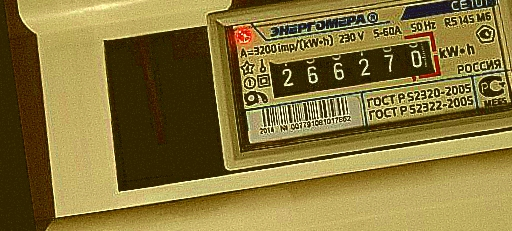0: (408, 47, 423, 68)
2: (278, 66, 296, 88), (355, 55, 372, 77)
6: (304, 62, 320, 85), (331, 59, 346, 81)
7: (381, 52, 396, 72)
screen: (258, 27, 447, 105)
